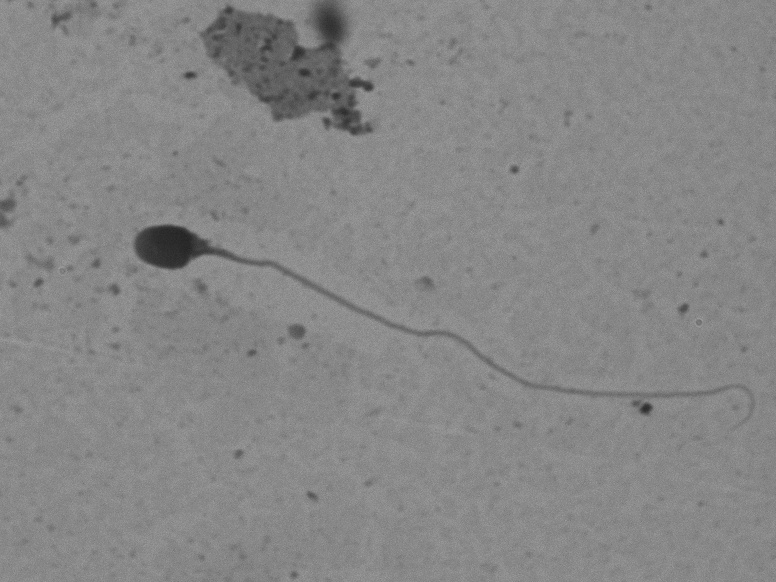Abnormal: (117, 196, 771, 471)
